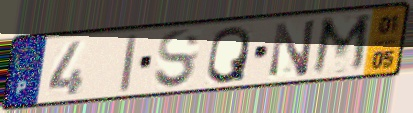4: (45, 39, 86, 97)
I: (117, 32, 141, 94)
M: (308, 11, 375, 78)
N: (267, 17, 319, 79)
Q: (204, 23, 253, 86)
S: (152, 27, 203, 91)
